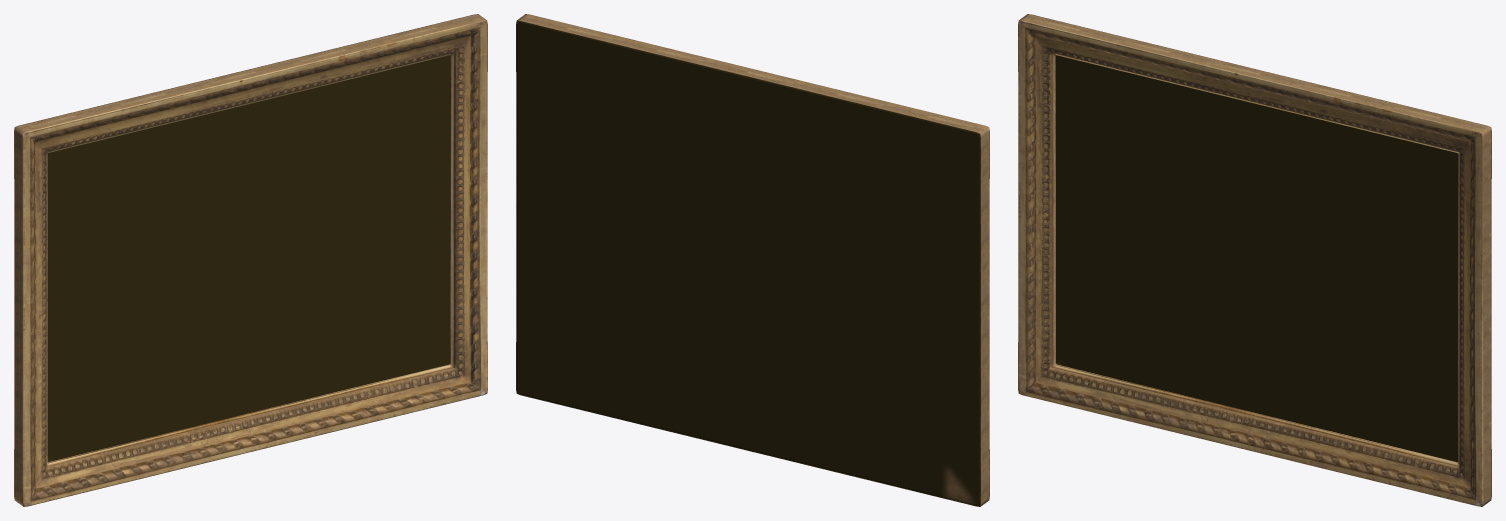
Rendered from frame_main.glb.
The picture shows the model from 3 angles, left to right: view 1: azimuth 30°, elevation 25°; view 2: azimuth 150°, elevation 25°; view 3: azimuth 330°, elevation 25°; orthographic projection.
Parts seen in each view (by area): view 1: fancy_picture_frame_01; view 2: fancy_picture_frame_01; view 3: fancy_picture_frame_01.
Part boxes in pixels (x1,y1,x2,y2): fancy_picture_frame_01: (14, 14, 487, 506); fancy_picture_frame_01: (516, 14, 989, 506); fancy_picture_frame_01: (1018, 14, 1491, 506).
Bounding box in the file's own units: 0.603 × 0.4641 × 0.02.
1 material, 1 textured.
